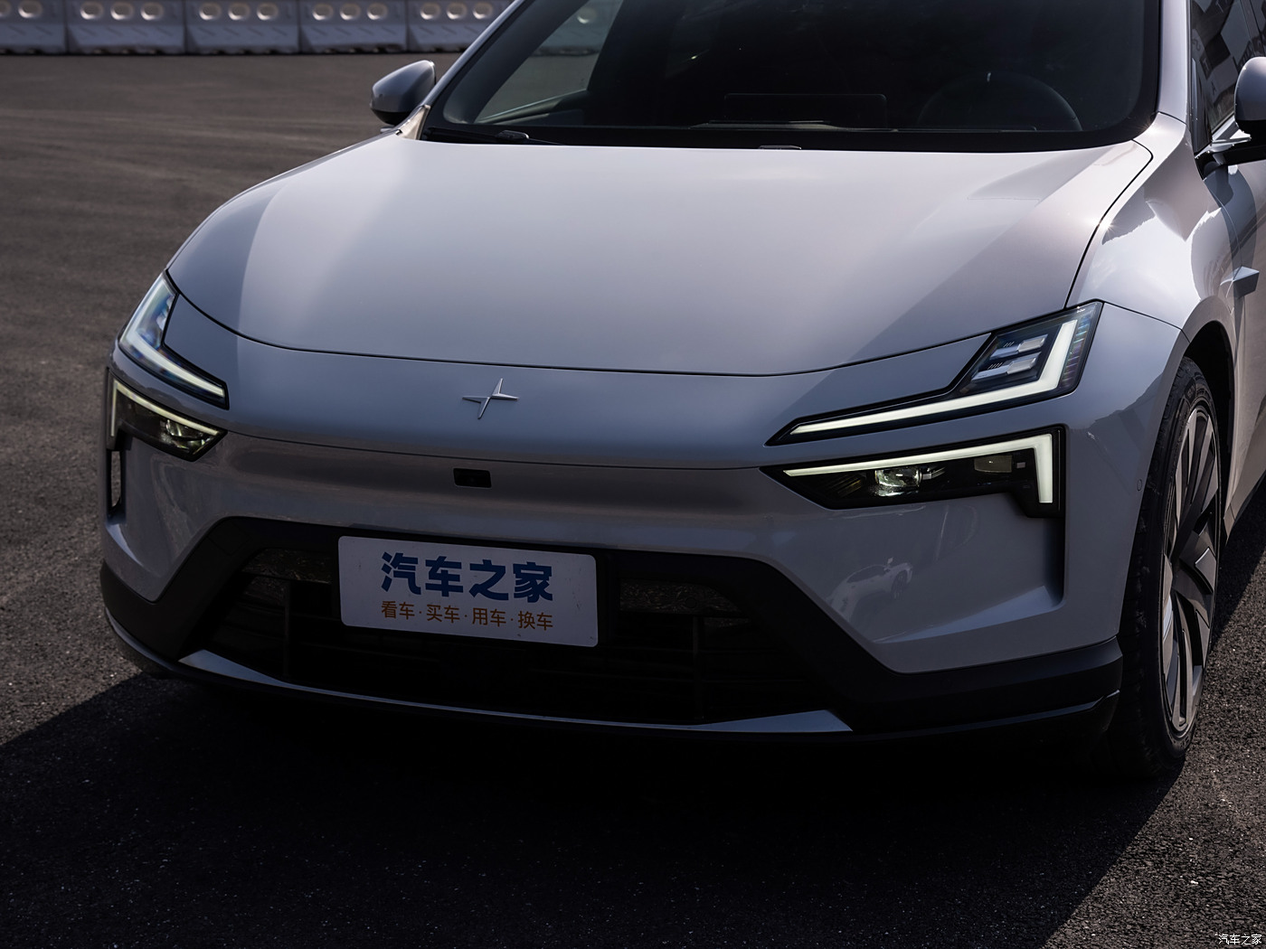Polestar: (463, 379, 518, 419)
